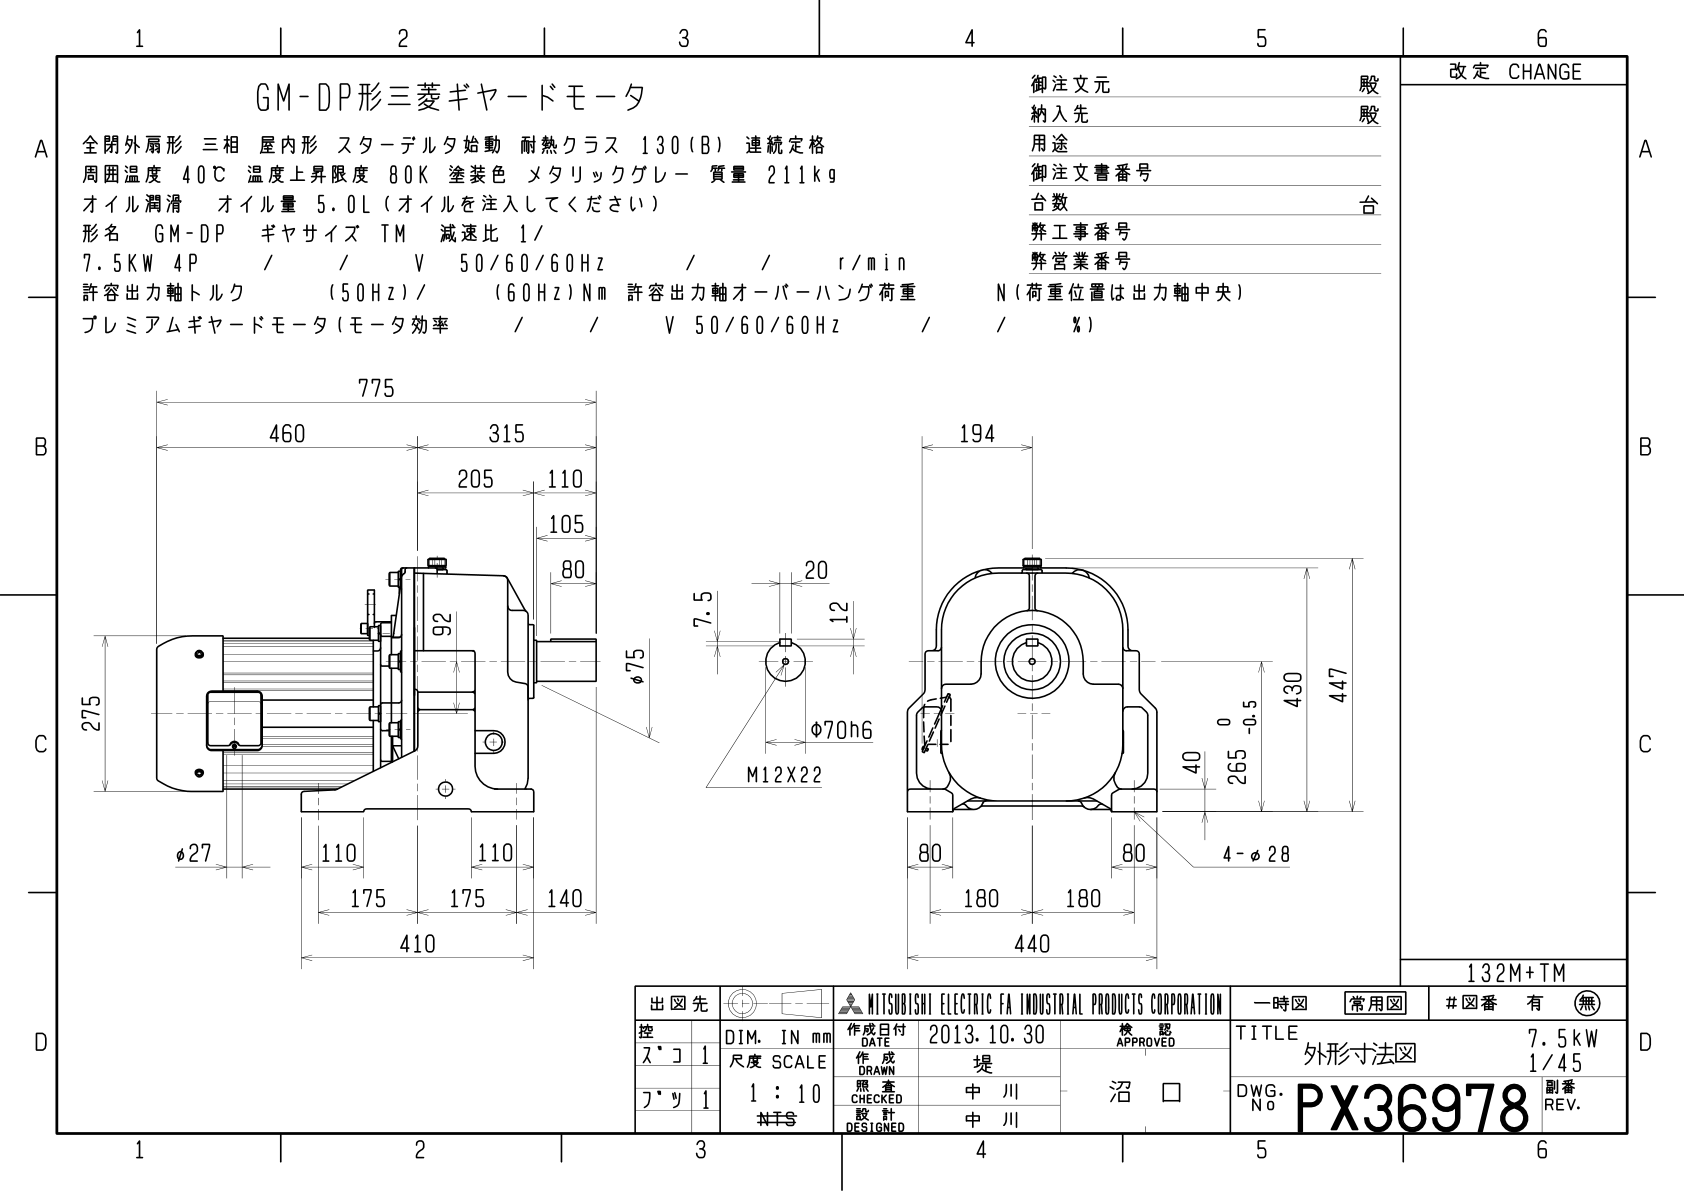GM_D_屋内＿三相_脚: (1, 1, 1662, 1169)
